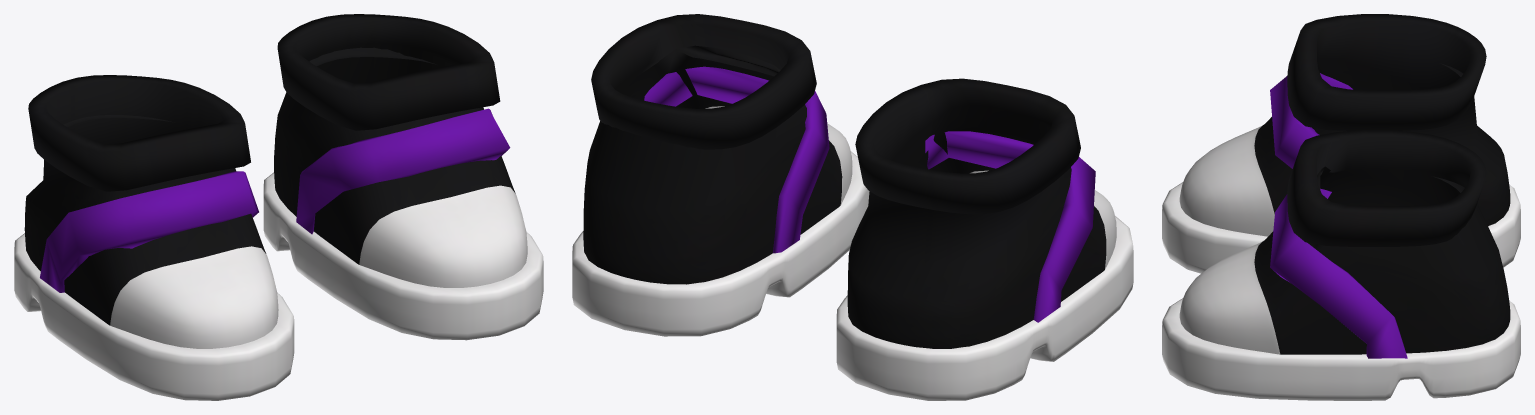
File: Purple Strips.glb
3 renders of one model, left to right at view 1: azimuth 30°, elevation 25°; view 2: azimuth 150°, elevation 25°; view 3: azimuth 270°, elevation 25°, orthographic. The views are drawn at different scales.
Visible parts, largest first — view 1: Shoes; view 2: Shoes; view 3: Shoes.
Boxes of the visible parts, x1,y1,x2,y2 form: Shoes: (14,14,543,400); Shoes: (572,14,1133,400); Shoes: (1162,14,1520,400).
Size of the model in its own units: 0.4652 by 0.2181 by 0.354.
Materials: 1 (1 with a texture image).
